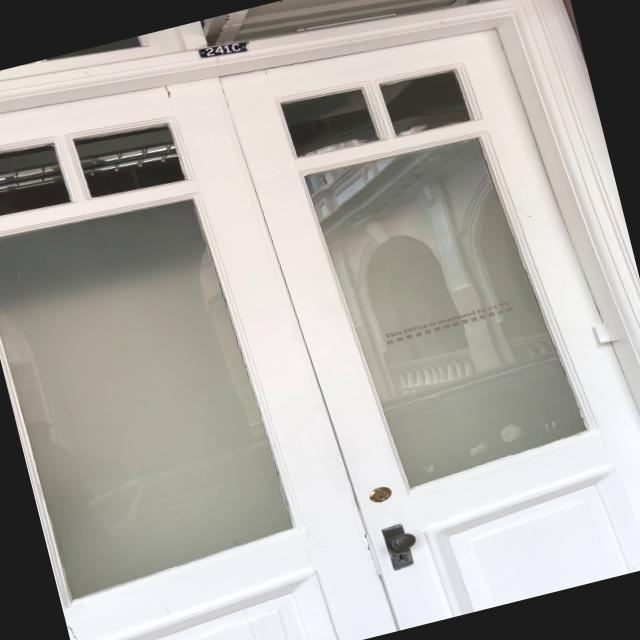room241c: (193, 34, 247, 64)
